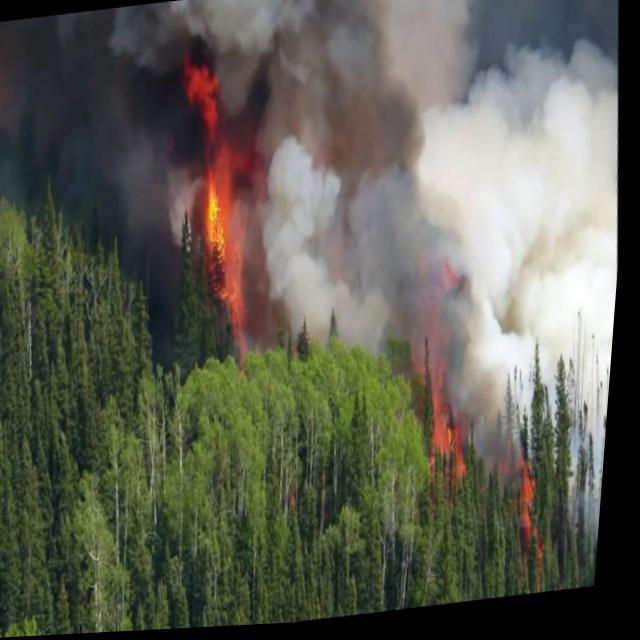Fire: (155, 33, 277, 385), (390, 235, 499, 528), (489, 422, 568, 604)
